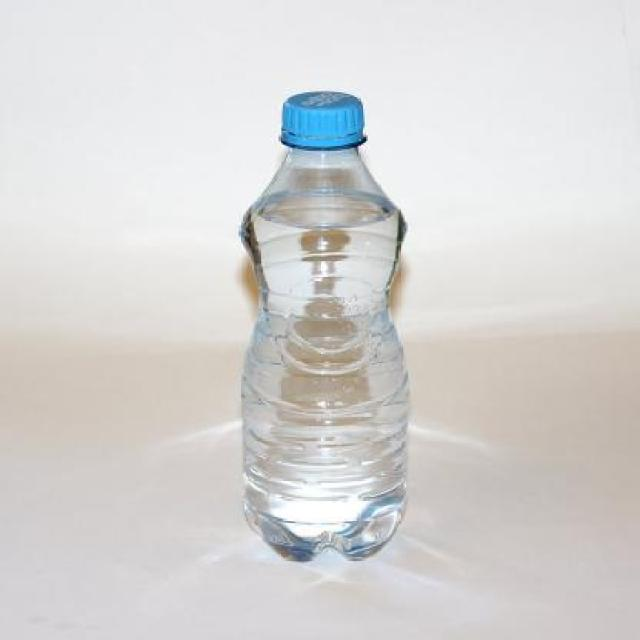bottle: (232, 78, 420, 572)
